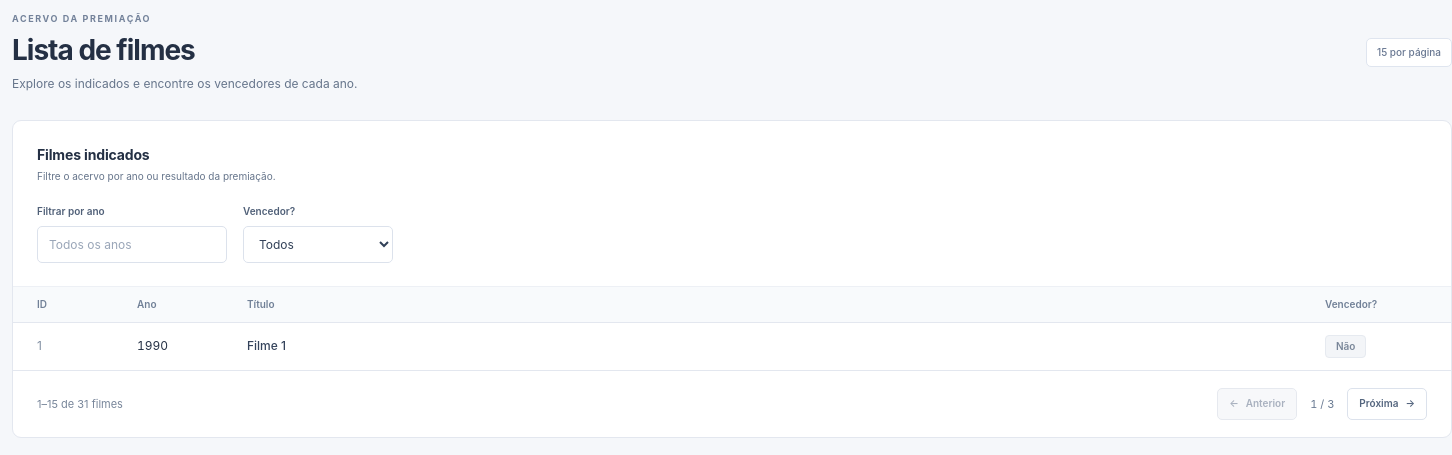
Test case: lista de filmes › não envia ano incompleto à API
Expected: the text "Filme 1" is shown, [223,323,1301,370]
Type "199" into the field labelled "Filtrar por ano" at x=132, y=244, box [37,226,227,263]
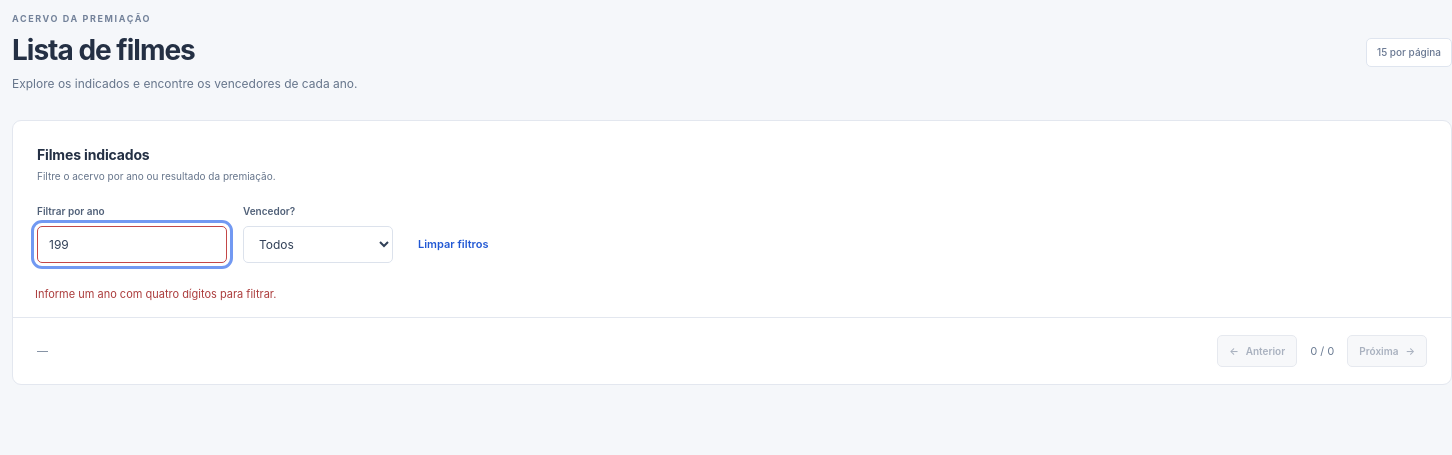
Now the message shows "quatro dígitos", box [35,287,276,301]
Now the button with aria-label "Próxima página" is disabled, box [1347,335,1427,367]
